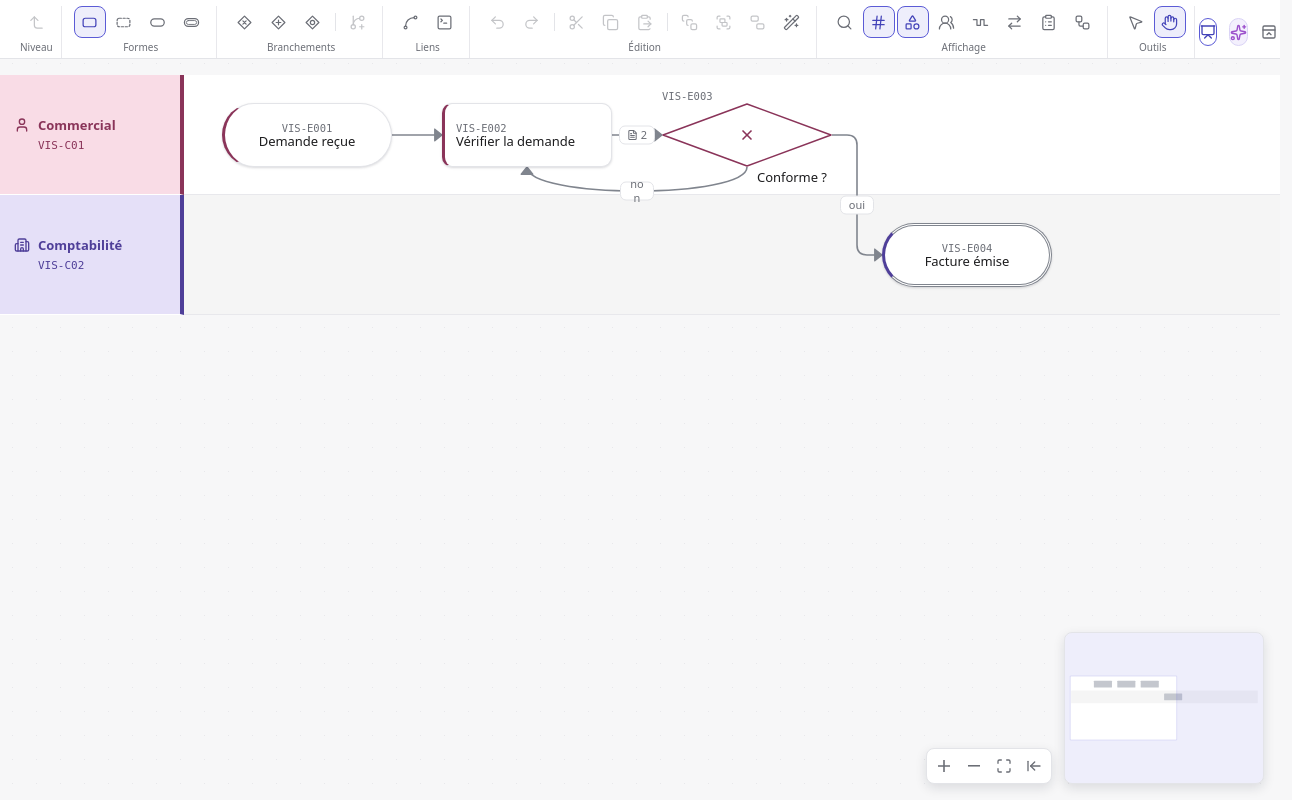
the status button on a line of the plan (ADR 116) › a pain point no use carries takes its status under its own step, as the host gives it, with the right to fill its sheet (R10)
This screenshot has width=1292, height=800.
Click the button with test id "ribbon-plan" at (1049, 22), box top-left (1033, 6), bottom-right (1065, 38)
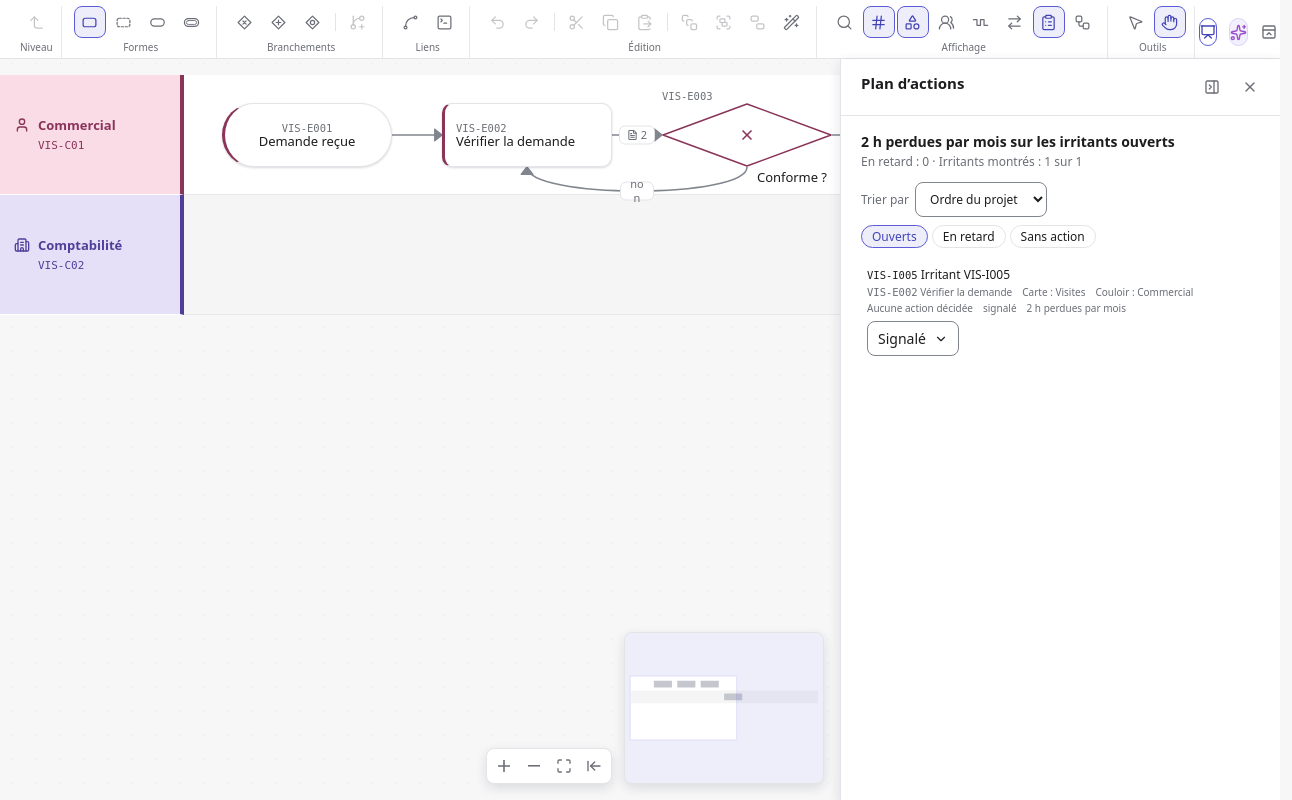
Check: the list item with test id "^plan-line-" is shown, box top-left (861, 260), bottom-right (1260, 360)
Click the button with aria-label "État de l’irritant VIS-I005 : Signalé" at (913, 338), box top-left (867, 321), bottom-right (959, 356)
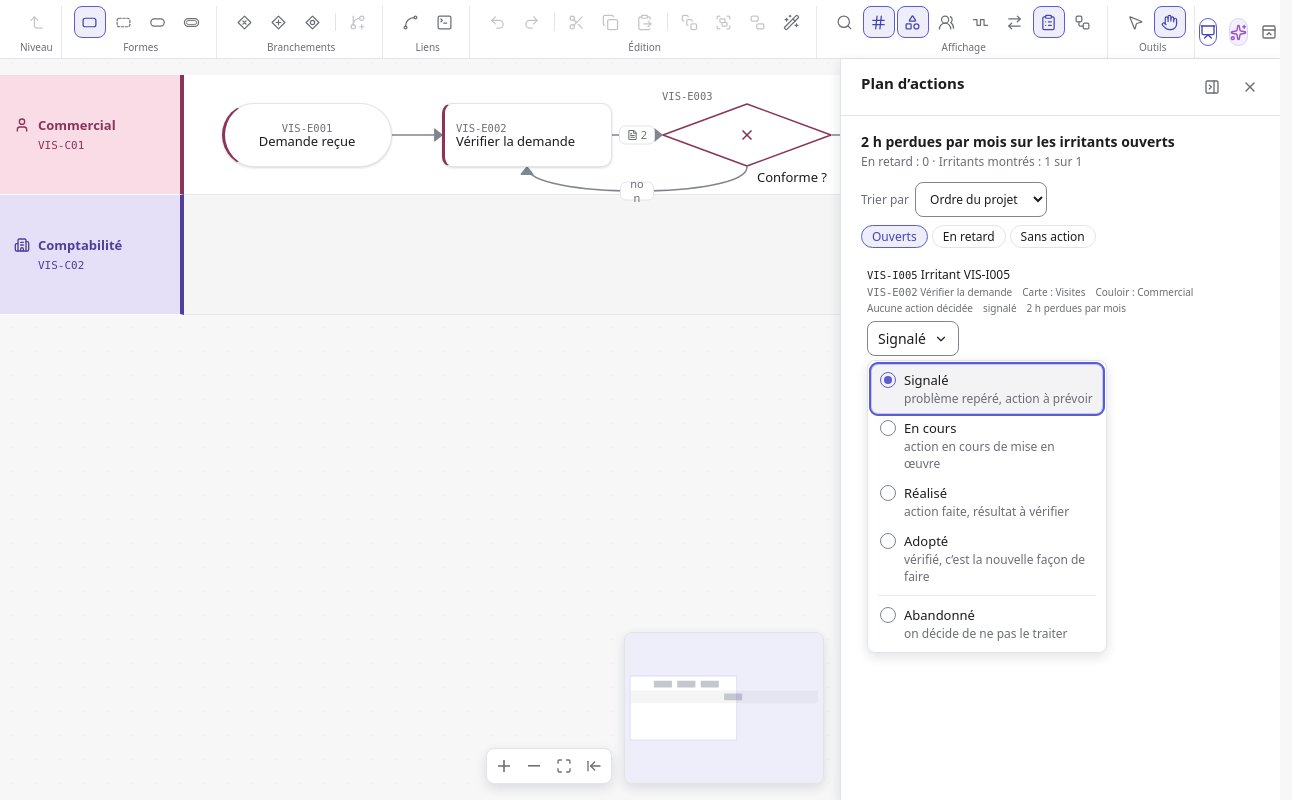
Click the menu item with aria-label "En cours — action en cours de mise en œuvre" at (987, 446), box top-left (872, 413), bottom-right (1102, 478)
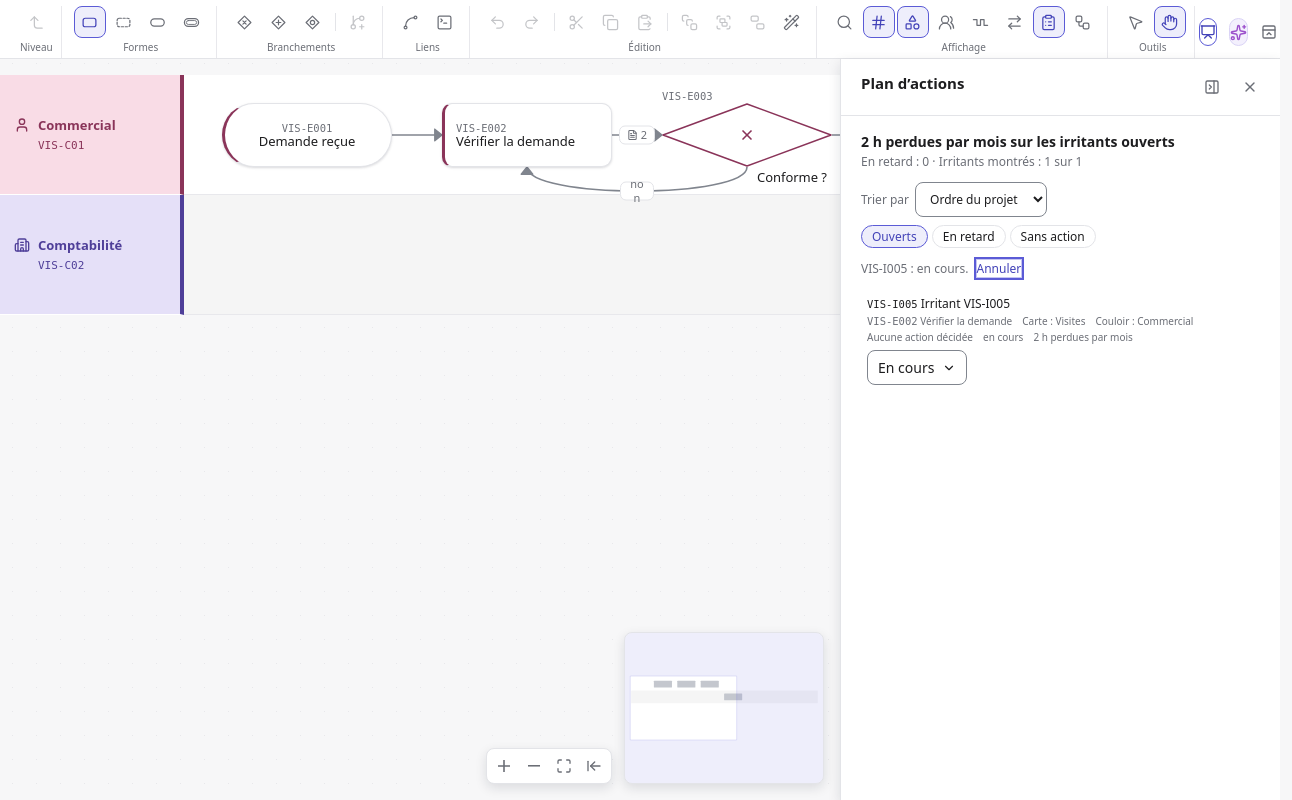
Check: the element with test id "plan-change" shows "VIS-I005 : en cours.", box top-left (861, 260), bottom-right (968, 277)
